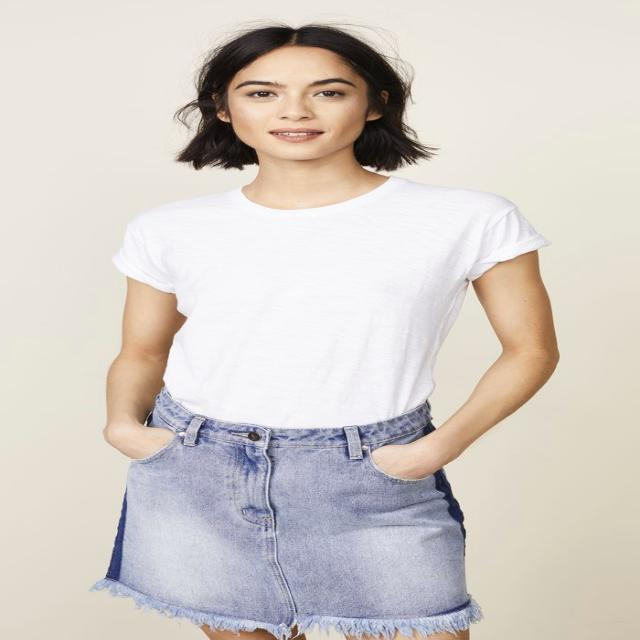shoulder: (122, 187, 542, 275)
